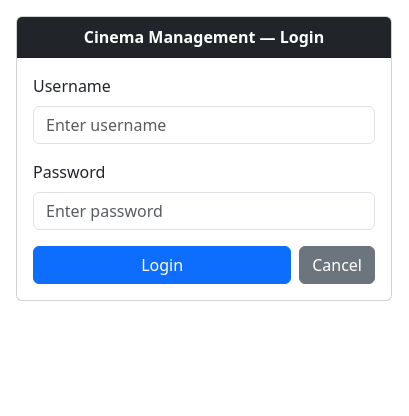
Test: Login — TODO-01 › TODO-01: shows Alert when login returns User role (not Admin)
The width and height of the screenshot is (409, 416).
Step 1. Type "user1" into the field with placeholder "Enter username" → (204, 125), box [33, 106, 375, 144]
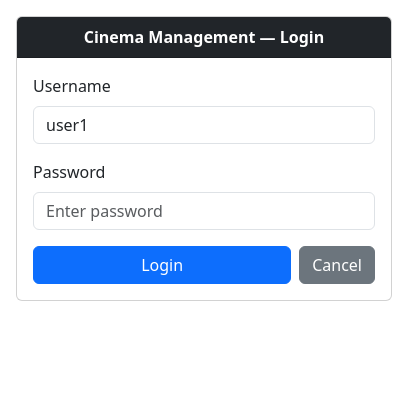
Step 2. Type "user123" into the password field with placeholder "Enter password" → (204, 211), box [33, 192, 375, 230]
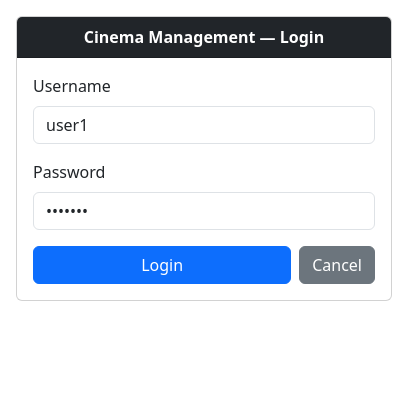
Step 3. Click the button "Login" → (162, 265), box [33, 246, 291, 284]
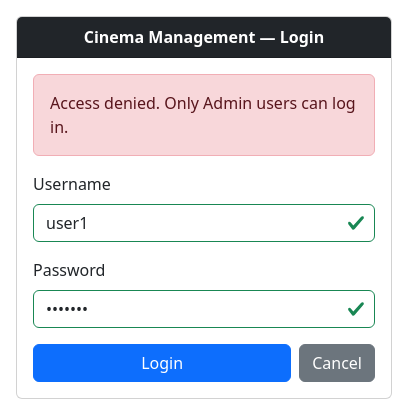
Check: the message "Access denied. Only Admin users can log in." is shown, box [33, 74, 375, 156]
